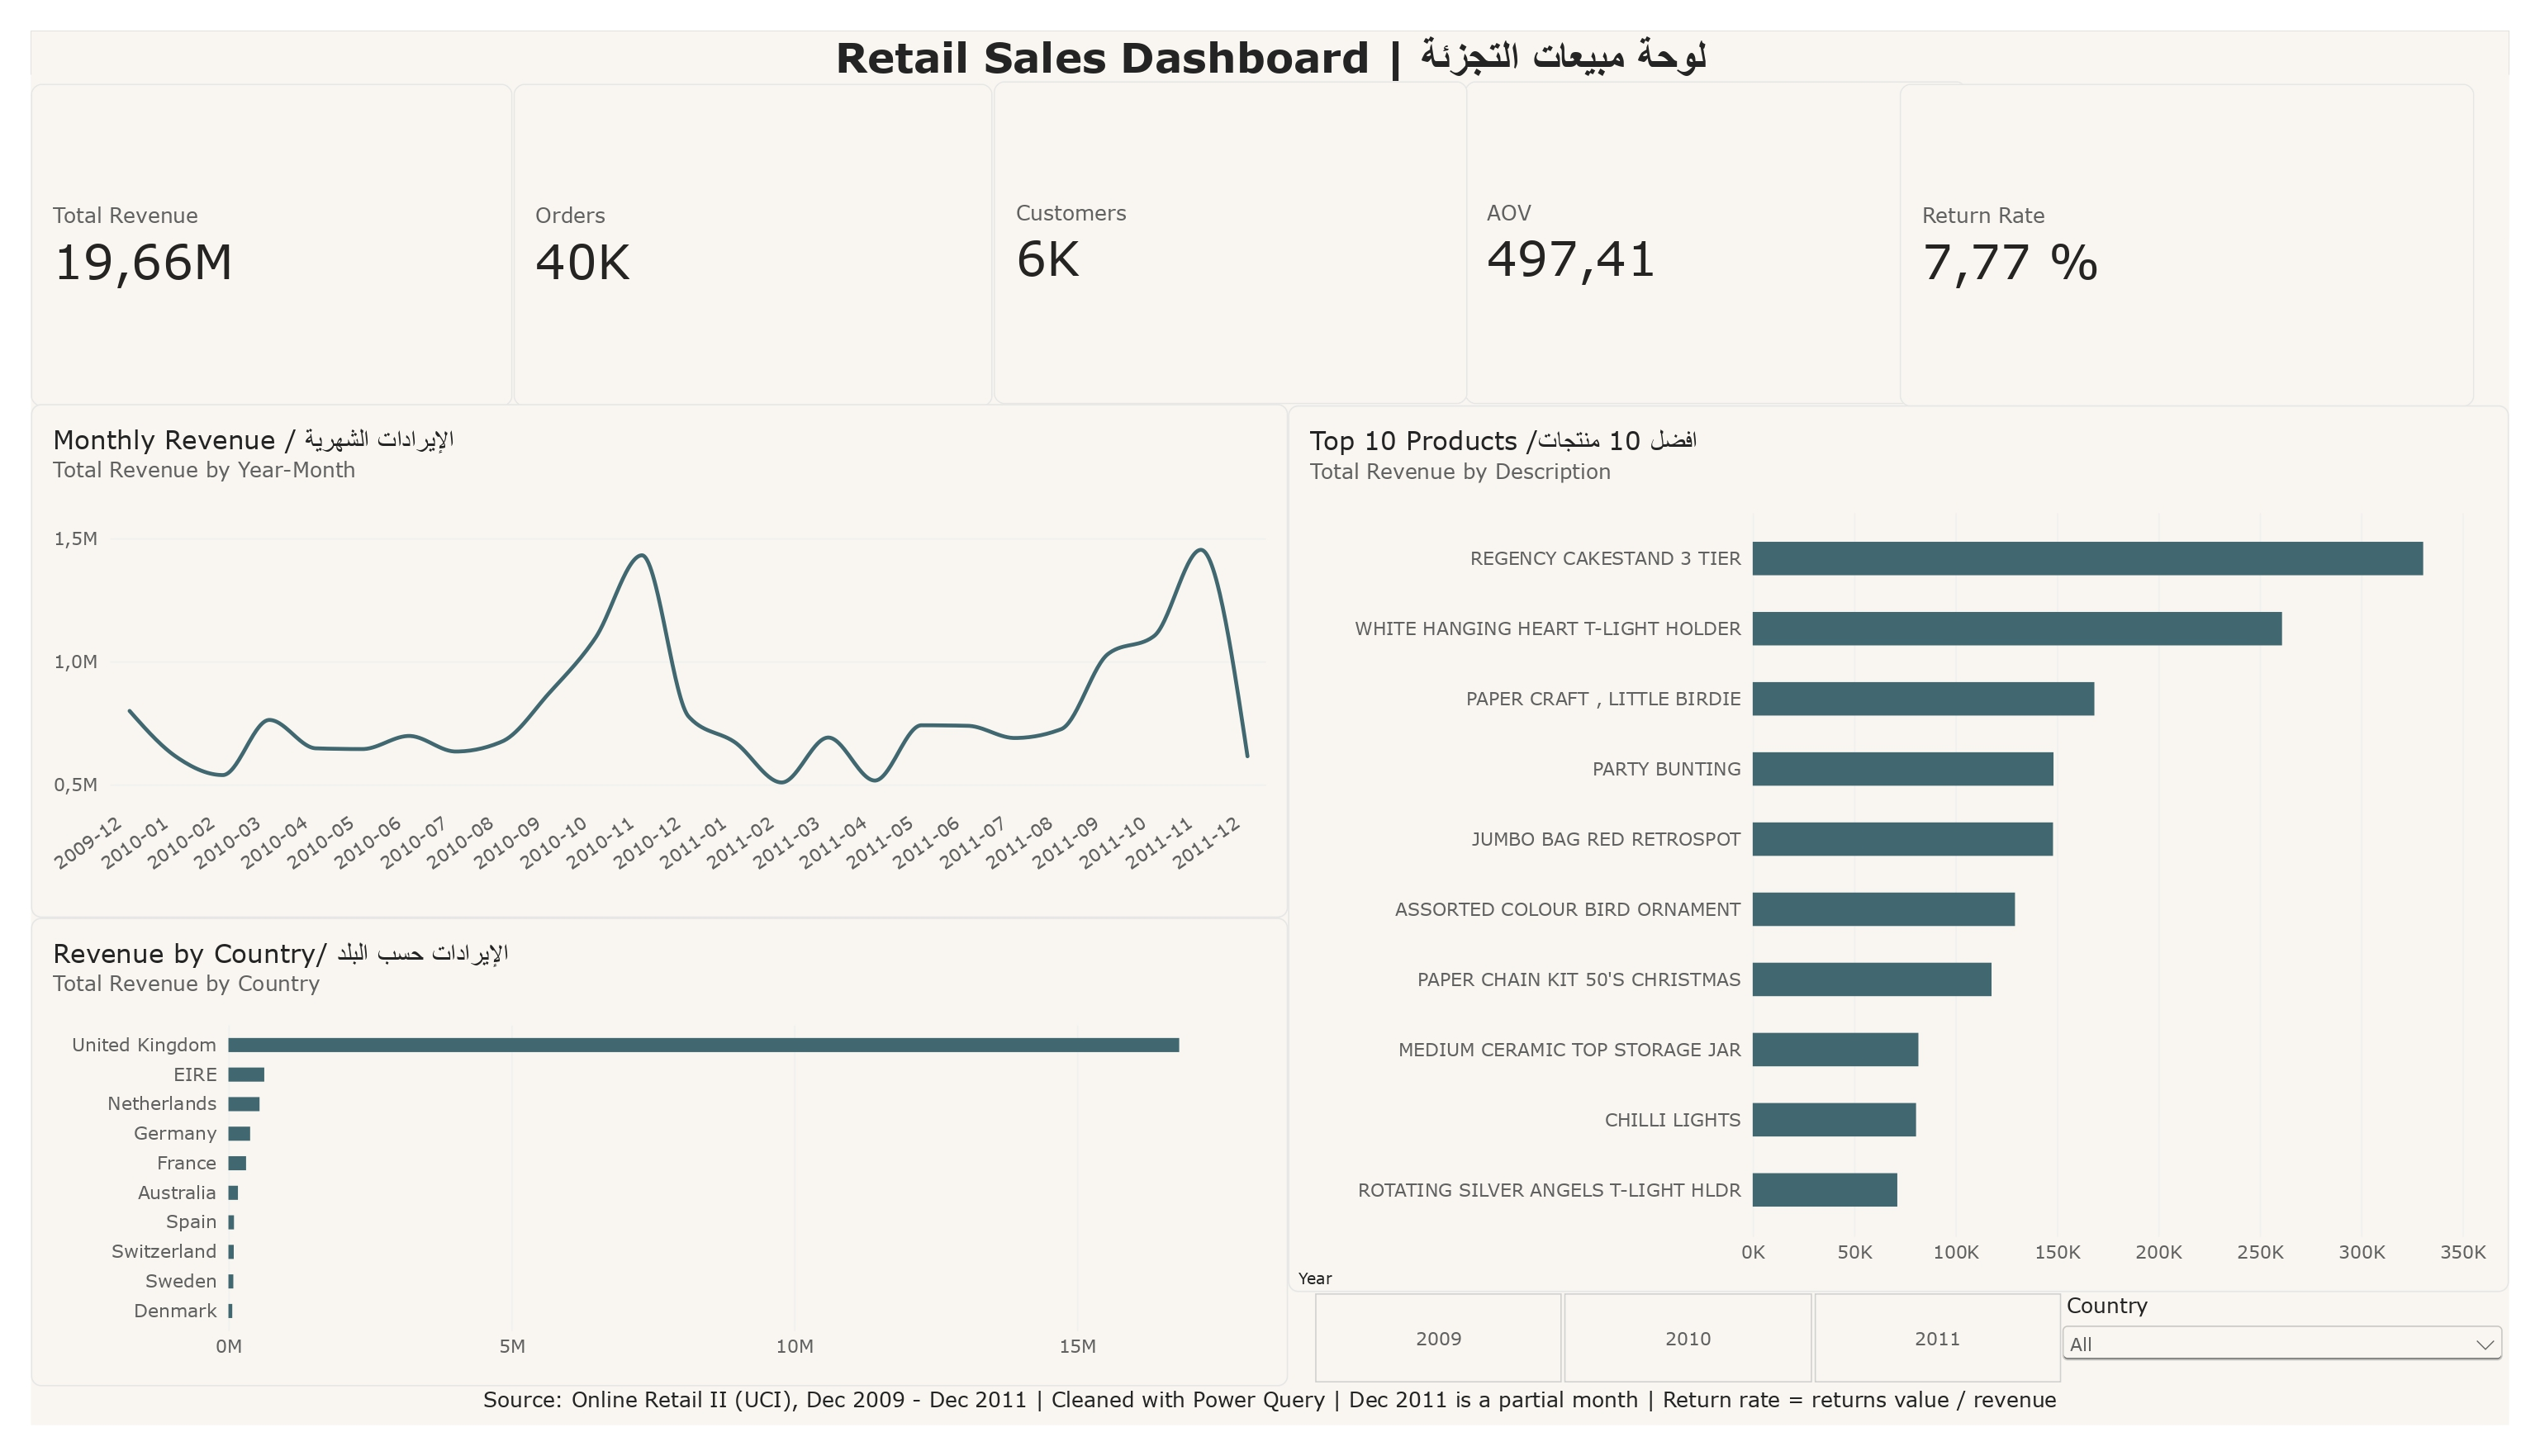

What the dashboard file says about the page in this screenshot:
{"tool":"powerbi","page":{"name":"Sales Overview","canvas":[1920,1080],"ordinal":0},"visuals":[{"type":"cardVisual","fields":{"Data":["clean_retail.Total Revenue"]},"box":[0,41.3,373.9,250],"z":0},{"type":"cardVisual","fields":{"Data":["clean_retail.AOV"]},"box":[1110.9,39.1,389.1,250],"z":1000},{"type":"cardVisual","fields":{"Data":["clean_retail.Customers"]},"box":[745.7,39.1,367.4,250],"z":2000},{"type":"cardVisual","fields":{"Data":["clean_retail.Orders"]},"box":[373.9,41.3,371.7,250],"z":3000},{"type":"cardVisual","fields":{"Data":["returns.Return Rate"]},"box":[1447.8,41.3,445.7,250],"z":4000},{"type":"lineChart","title":"Monthly Revenue / الإيرادات الشهرية","fields":{"Category":["Date.Year-Month"],"Y":["clean_retail.Total Revenue"]},"box":[0,289.1,973.9,397.8],"z":5000},{"type":"clusteredBarChart","title":"Top 10 Products /افضل 10 منتجات","fields":{"Category":["clean_retail.Description"],"Y":["clean_retail.Total Revenue"]},"box":[973.6,289.5,946.5,687.7],"z":6000},{"type":"clusteredBarChart","title":"Revenue by Country/ الإيرادات حسب البلد","fields":{"Category":["Countries.Country"],"Y":["clean_retail.Total Revenue"]},"box":[0,687,973.9,363],"z":7000},{"type":"slicer","fields":{"Values":["Date.Year"]},"box":[974,977,595,72],"z":8000},{"type":"slicer","fields":{"Values":["Countries.Country"]},"box":[1569,977.2,351.1,72.4],"z":9000},{"type":"textbox","box":[0,0,1920.1,41.6],"z":9001},{"type":"textbox","box":[0,1050,1919.6,30.4],"z":9002}]}

Visuals, with their boxes on the page's 1920x1080 design canvas (x1, y1, x2, y2). These are canvas units, not pixel positions in the 2540x1456 screenshot, which may show the page scaled, cropped or inside an application window:
cardVisual - clean_retail.Total Revenue: detection(0, 41, 374, 291)
cardVisual - clean_retail.AOV: detection(1111, 39, 1500, 289)
cardVisual - clean_retail.Customers: detection(746, 39, 1113, 289)
cardVisual - clean_retail.Orders: detection(374, 41, 746, 291)
cardVisual - returns.Return Rate: detection(1448, 41, 1894, 291)
"Monthly Revenue / الإيرادات الشهرية" lineChart: detection(0, 289, 974, 687)
"Top 10 Products /افضل 10 منتجات" clusteredBarChart: detection(974, 290, 1920, 977)
"Revenue by Country/ الإيرادات حسب البلد" clusteredBarChart: detection(0, 687, 974, 1050)
slicer - Date.Year: detection(974, 977, 1569, 1049)
slicer - Countries.Country: detection(1569, 977, 1920, 1050)
textbox: detection(0, 0, 1920, 42)
textbox: detection(0, 1050, 1920, 1080)
